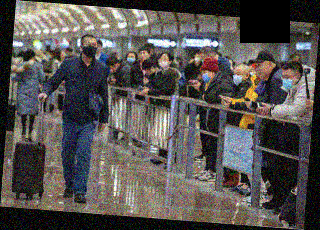mask_weared_incorrect: (159, 54, 170, 68)
with_mask: (280, 72, 296, 90), (82, 40, 98, 57), (232, 69, 244, 86), (201, 69, 212, 83), (126, 53, 136, 64), (193, 54, 201, 63)
without_mask: (255, 61, 271, 78), (138, 50, 149, 61), (143, 68, 154, 76), (109, 65, 119, 73)
